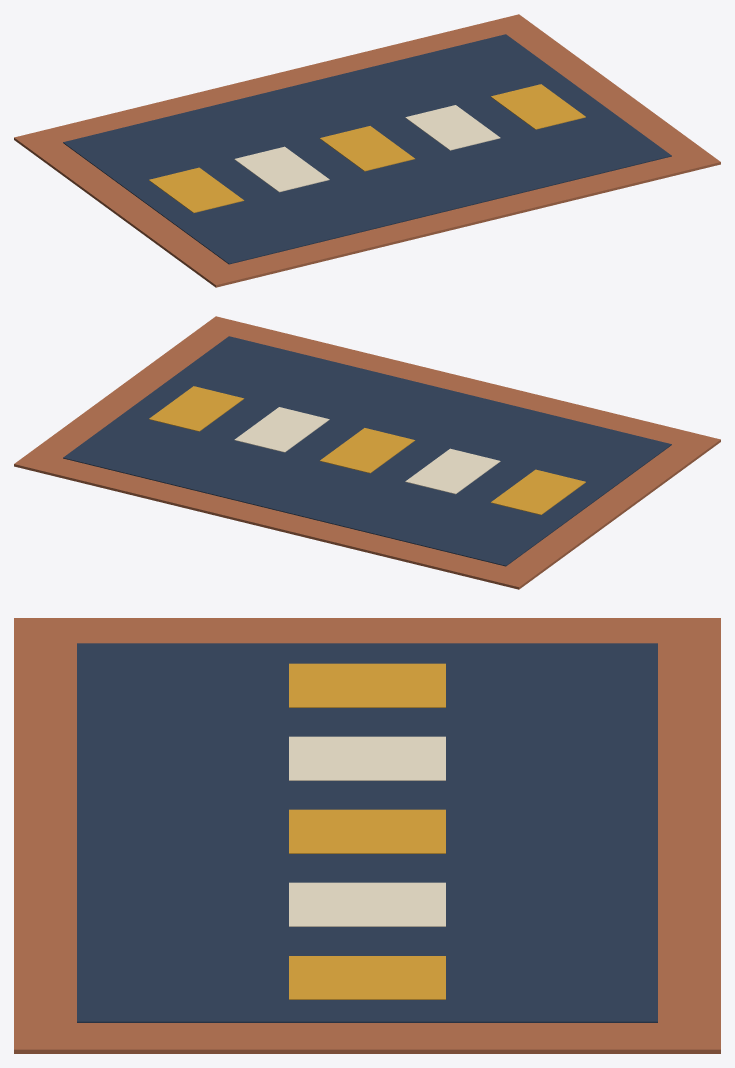
File: rug.glb
3 views of the same model, one above another, from view 1: azimuth 30°, elevation 25°; view 2: azimuth 150°, elevation 25°; view 3: azimuth 270°, elevation 25° (orthographic). The views are drawn at different scales.
Visible parts, largest first — view 1: rug; view 2: rug; view 3: rug.
Part boxes in pixels (x1,y1,x2,y2): rug: (14, 14, 720, 287); rug: (14, 316, 720, 589); rug: (14, 618, 720, 1053).
Size of the model in its own units: 2.6 by 0.019 by 1.8.
